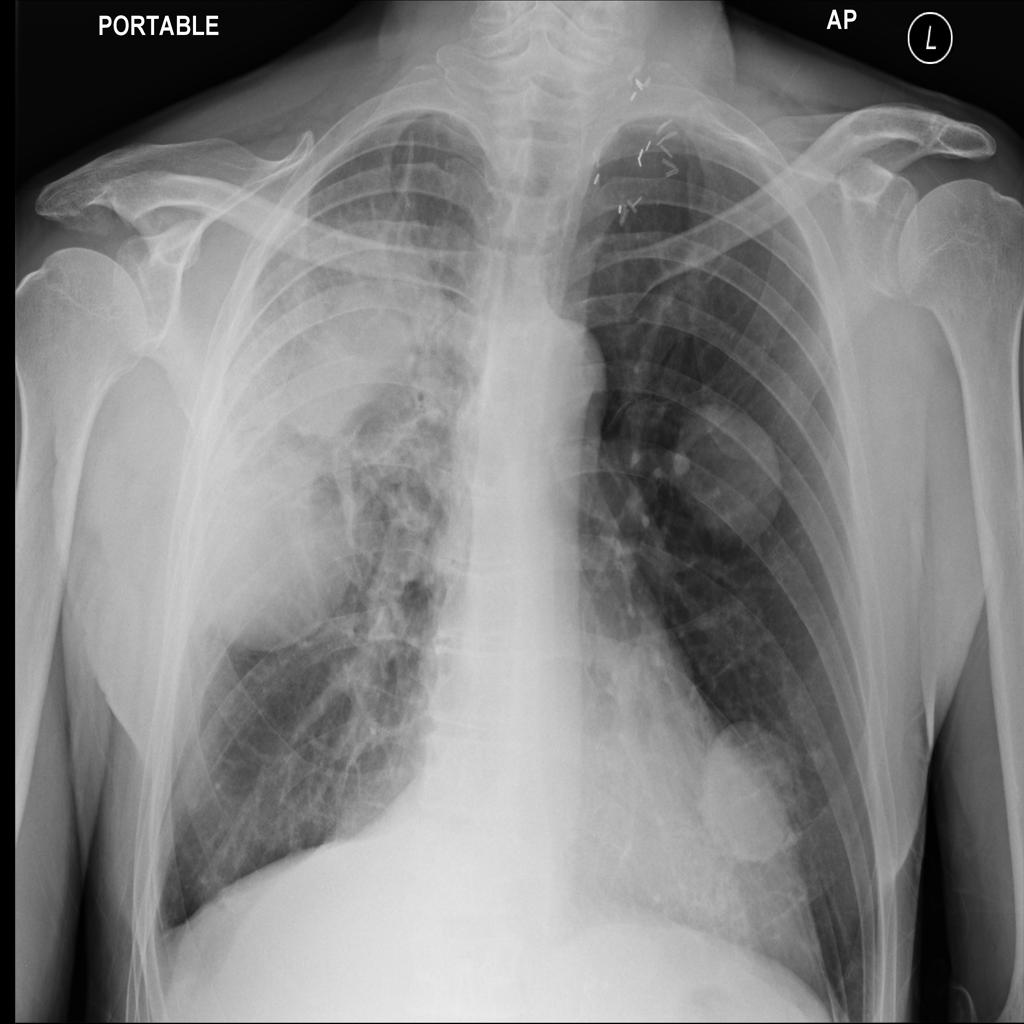nodule: (654, 368, 798, 564), (682, 720, 811, 882)
